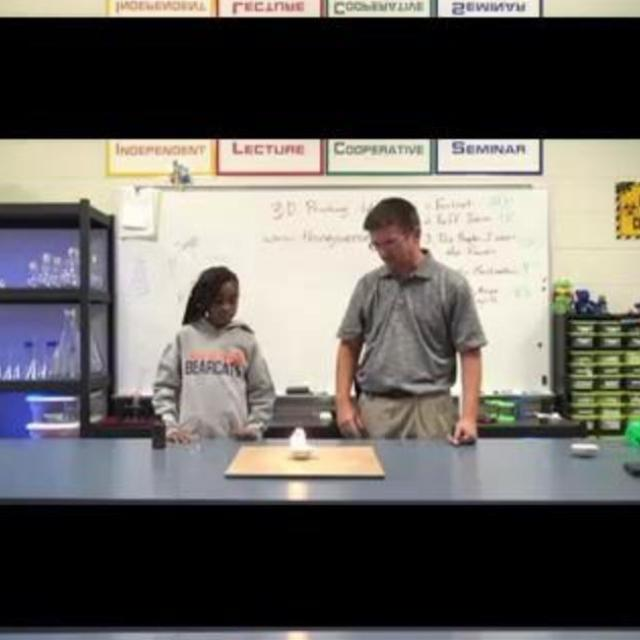smoke: (284, 421, 312, 458)
